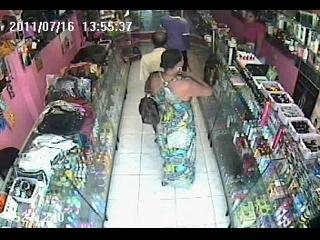Normal: (143, 49, 214, 189), (160, 10, 190, 71), (139, 30, 168, 82), (139, 94, 160, 126)
